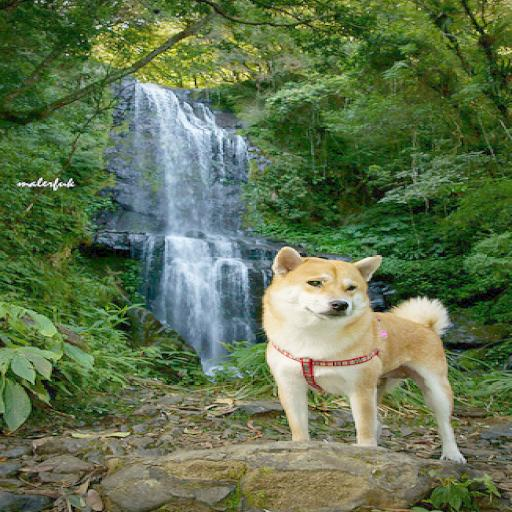dog_face: (274, 243, 389, 329)
